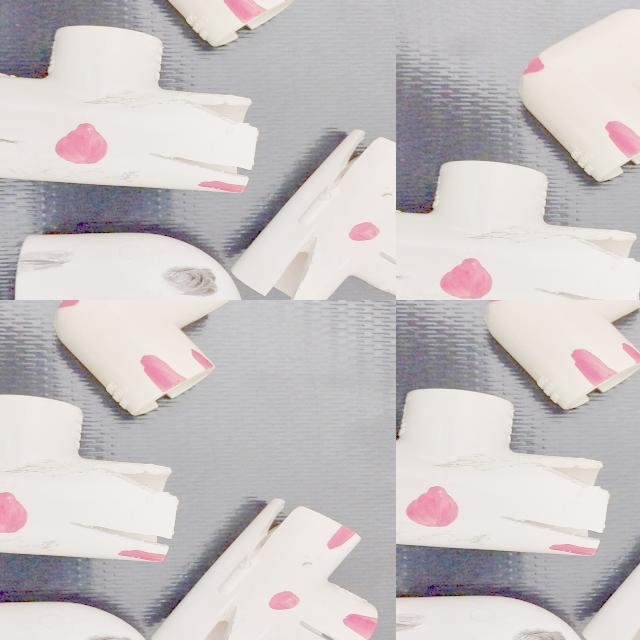Defective: (405, 487, 458, 529), (528, 457, 603, 486), (508, 517, 594, 538), (573, 353, 615, 387), (443, 455, 523, 469), (550, 545, 596, 559), (511, 631, 565, 640), (625, 344, 640, 362), (396, 621, 417, 633)
L Joint: (483, 300, 640, 414), (396, 597, 581, 640)
T Joint: (396, 390, 608, 559)
